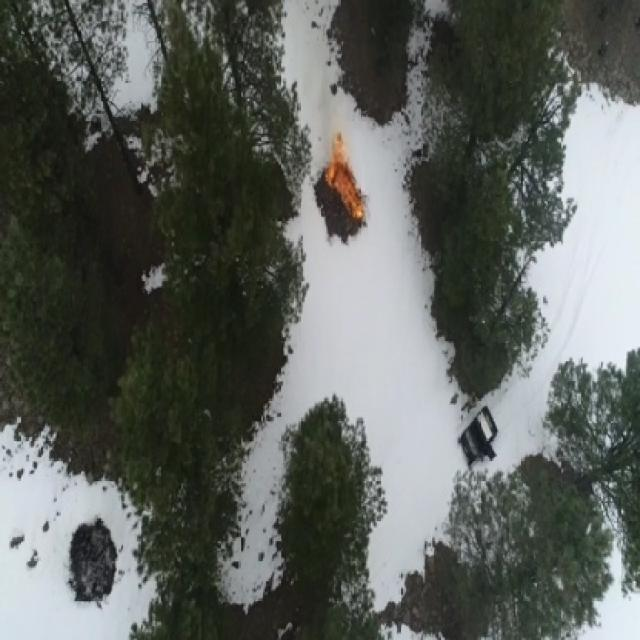Fire: (323, 129, 366, 223)
